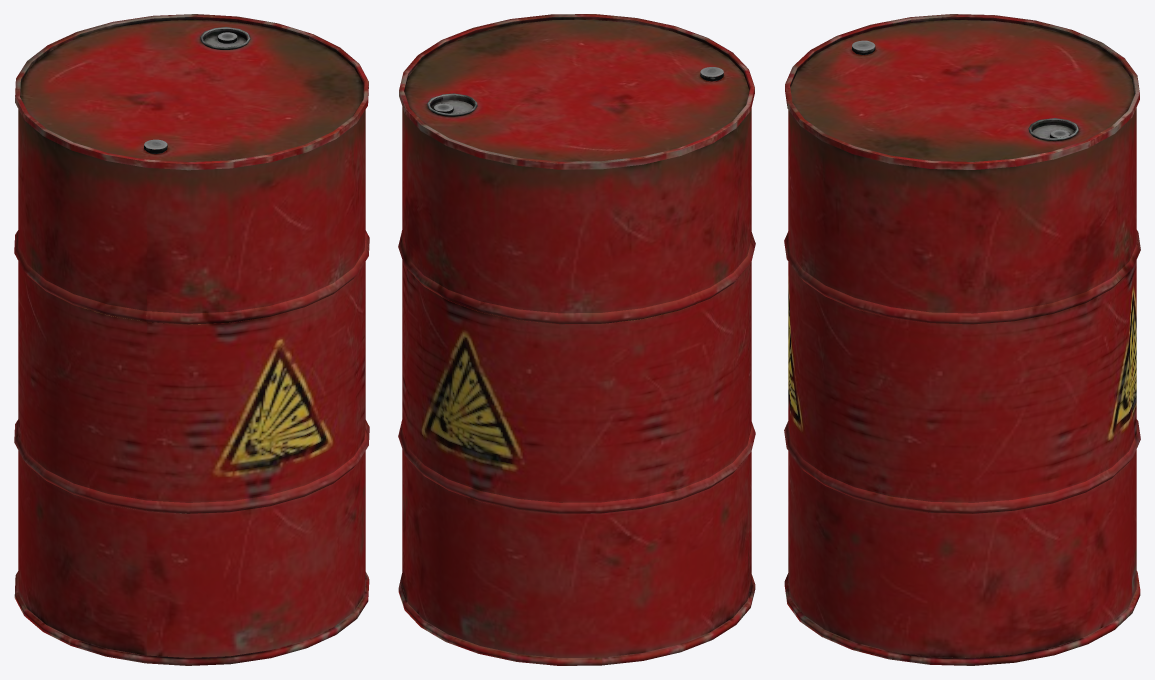
File: barrel_01.glb
The picture shows the model from 3 angles, left to right: view 1: azimuth 30°, elevation 25°; view 2: azimuth 150°, elevation 25°; view 3: azimuth 270°, elevation 25°; orthographic projection.
Visible parts, largest first — view 1: CC0_Barrel_01; view 2: CC0_Barrel_01; view 3: CC0_Barrel_01.
Part boxes in pixels (box(x1,y1,x2,y2)): CC0_Barrel_01: box(14, 14, 369, 665); CC0_Barrel_01: box(398, 14, 755, 665); CC0_Barrel_01: box(784, 14, 1140, 665).
Bounding box in the file's own units: 0.5638 × 0.8802 × 0.5638.
1 material, 1 textured.
